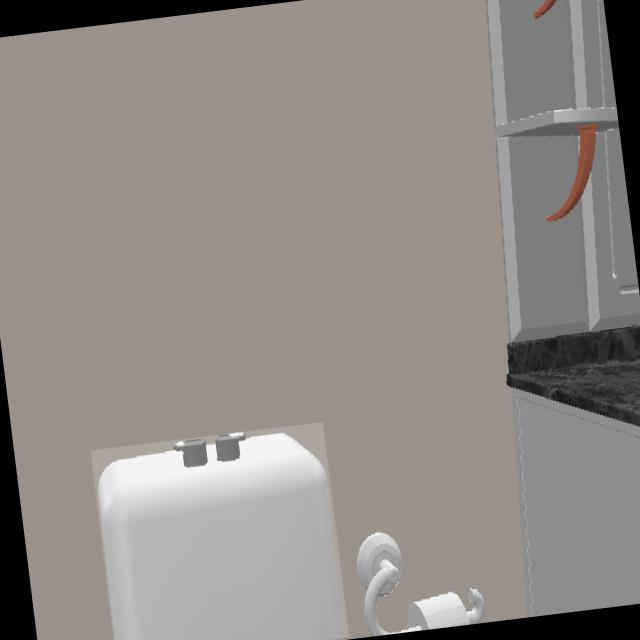toilet: (97, 433, 343, 640)
